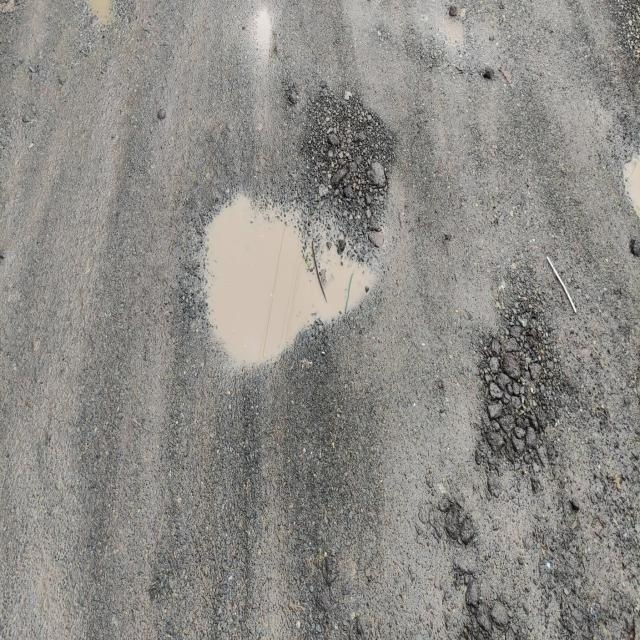pothole: (154, 116, 424, 412)
